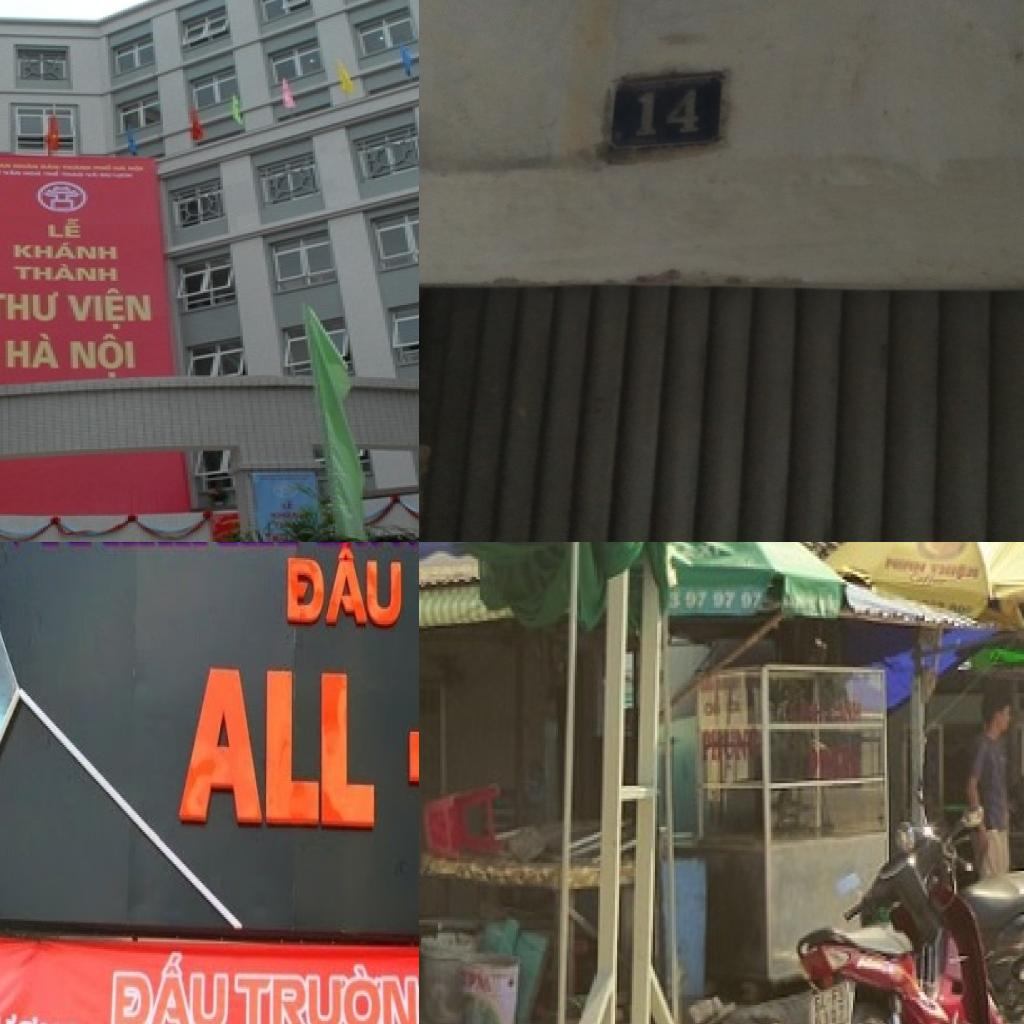text: (170, 648, 386, 856), (284, 543, 409, 635), (233, 964, 419, 1024), (107, 947, 233, 1024), (65, 288, 153, 332), (631, 87, 703, 138), (663, 587, 769, 618), (13, 262, 121, 283), (10, 242, 120, 262), (6, 333, 63, 370), (0, 289, 60, 323), (929, 556, 984, 587), (459, 969, 499, 1000), (883, 554, 931, 576), (46, 217, 83, 240)
